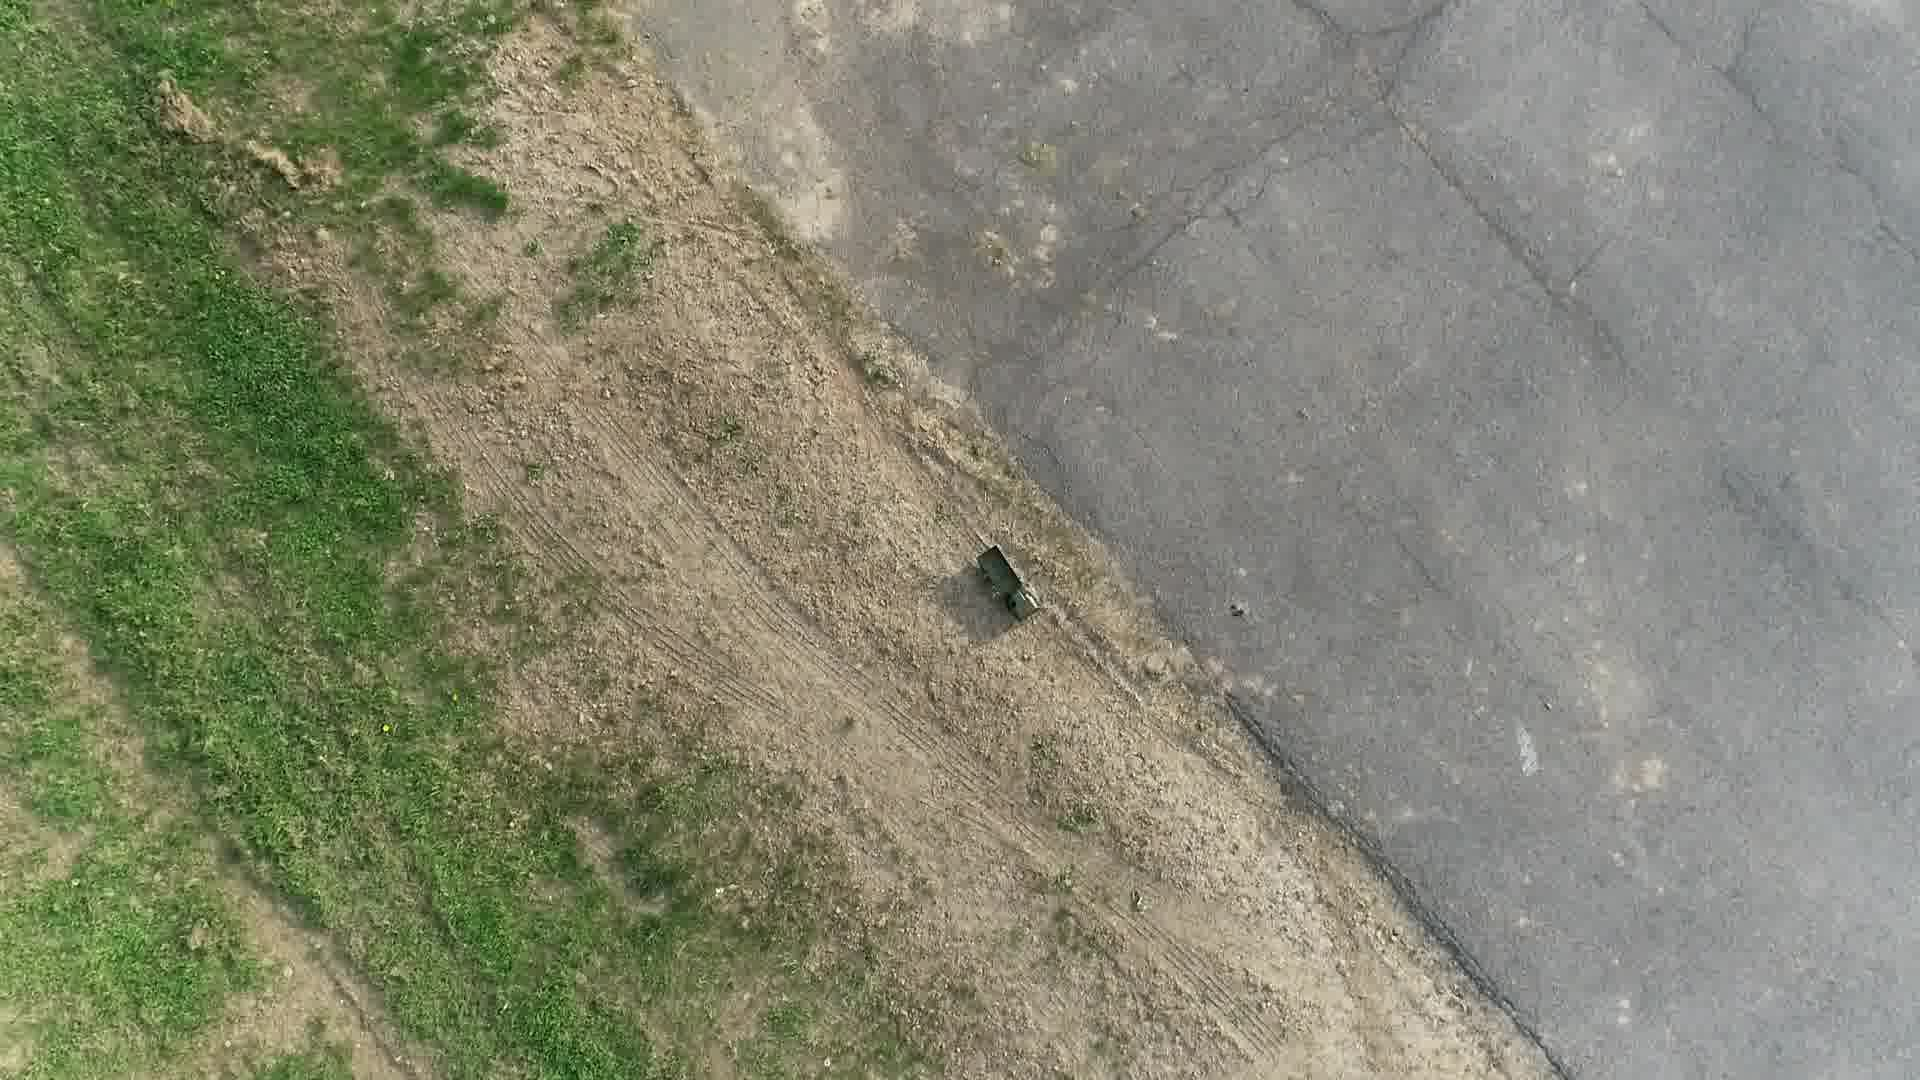transporter9: (975, 543, 1043, 622)
